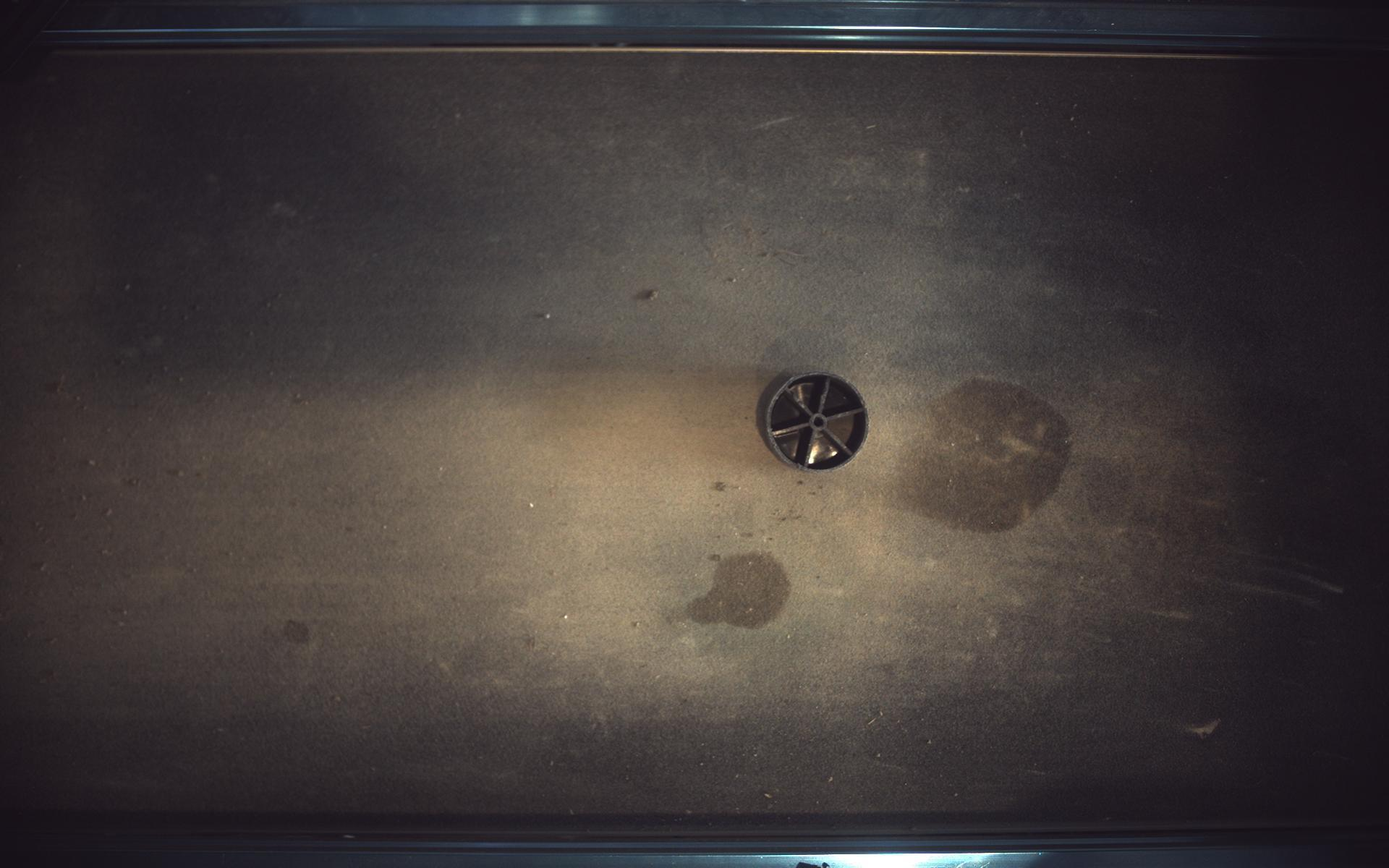general_w: (757, 370, 870, 472)
